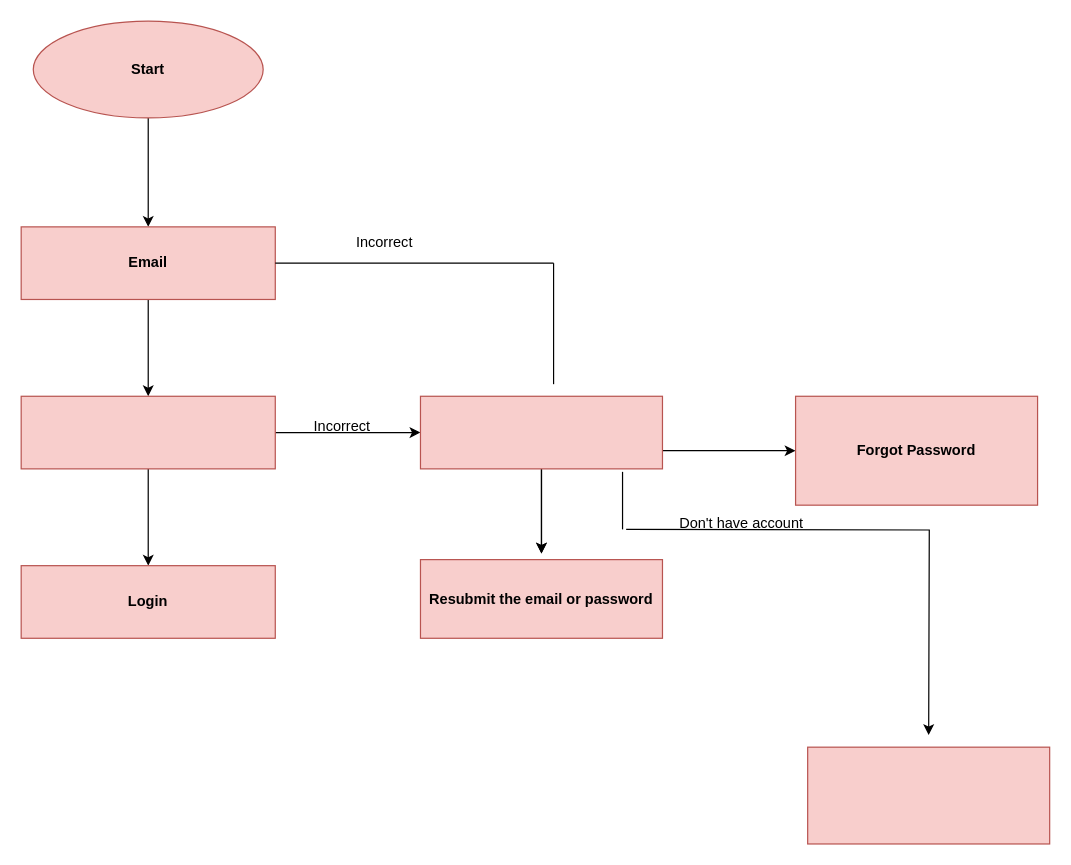
Image size: 1071x865. Some labels were removed from this diagram. The centre of each missing label's shape, as x and y in pixels:
"Password" goes at pixel 147 432.
"Show the give email or password is incorrect" goes at pixel 540 432.
"SignUp" goes at pixel 928 795.
